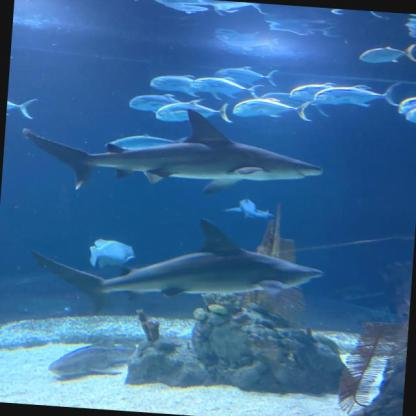fish: (47, 333, 140, 383), (314, 76, 402, 110), (155, 96, 234, 126), (232, 94, 316, 122), (192, 74, 264, 102), (88, 238, 137, 272), (213, 64, 280, 87), (104, 130, 174, 152), (150, 72, 201, 97), (128, 92, 182, 115), (359, 44, 415, 66), (290, 80, 337, 106), (6, 94, 38, 120), (397, 89, 415, 118), (405, 103, 415, 125)
shark: (27, 206, 326, 332), (19, 96, 328, 208), (223, 192, 274, 222)
